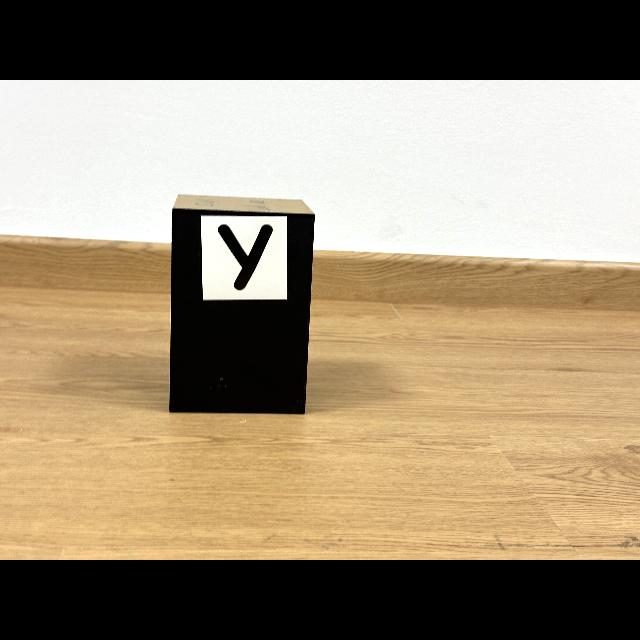Y: (218, 225, 272, 290)
